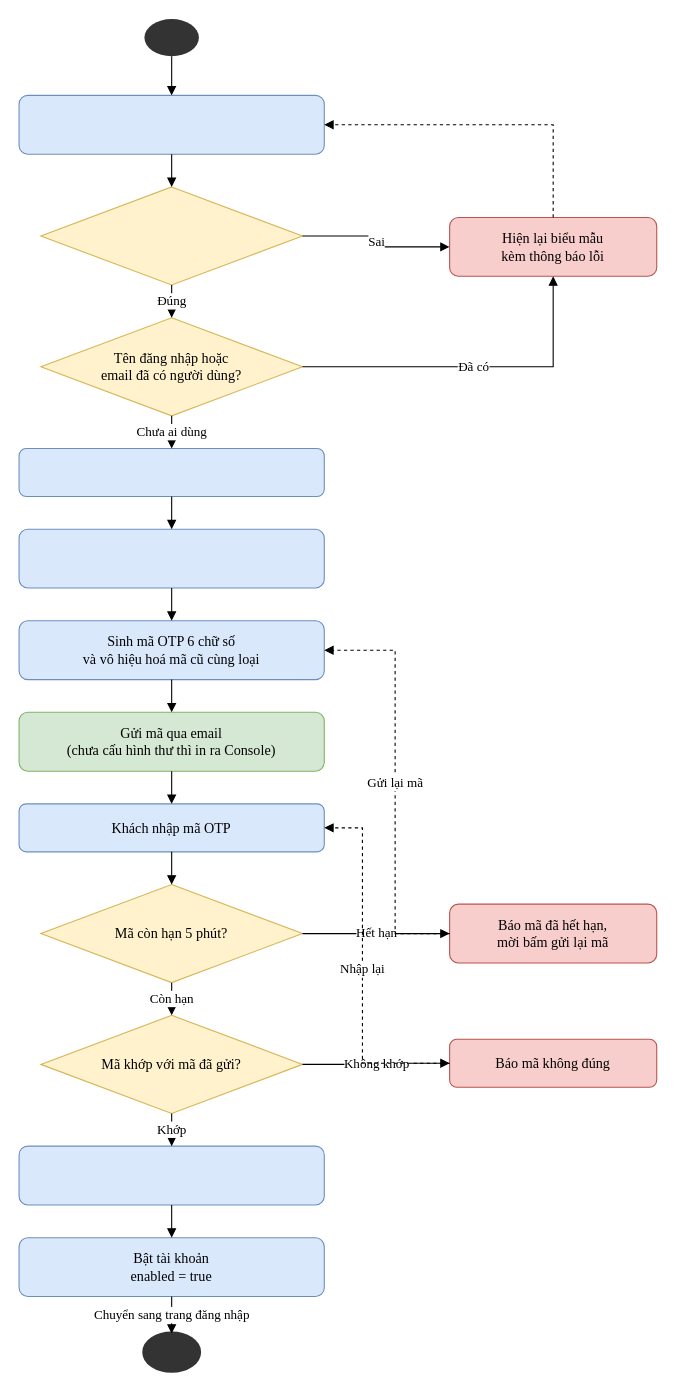
This 676x1391 diagram has some shape labels left out. Here are the shapes that lost their labels. From the top down, the box of each, then its label:
(18, 94, 324, 154): Khách điền biểu mẫu đăng ký (tên đăng nhập, họ tên, email, mật khẩu)
(40, 186, 302, 285): Dữ liệu đúng định dạng? (bean validation)
(18, 447, 324, 496): Mã hoá mật khẩu bằng BCrypt
(18, 528, 324, 588): Lưu tài khoản vào CSDL enabled = false, role = USER
(18, 1145, 324, 1205): Đánh dấu mã đã dùng (used = true)
